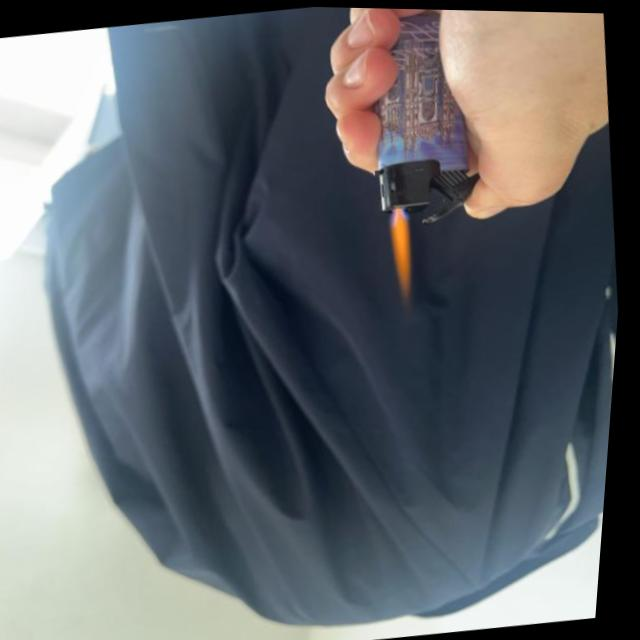Fire: (385, 210, 423, 298)
